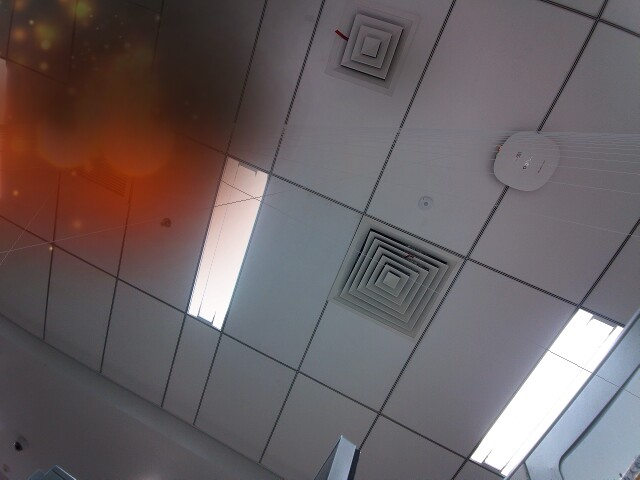fire: (101, 114, 173, 177), (36, 108, 98, 168)
